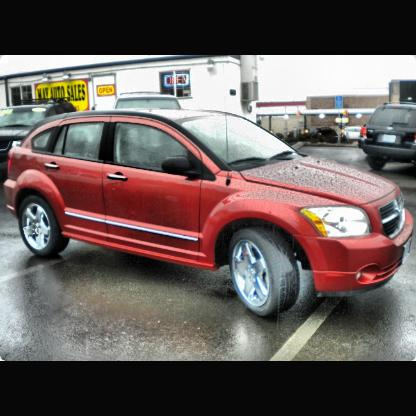Dodge Caliber Wagon 2007: (5, 107, 415, 321)
